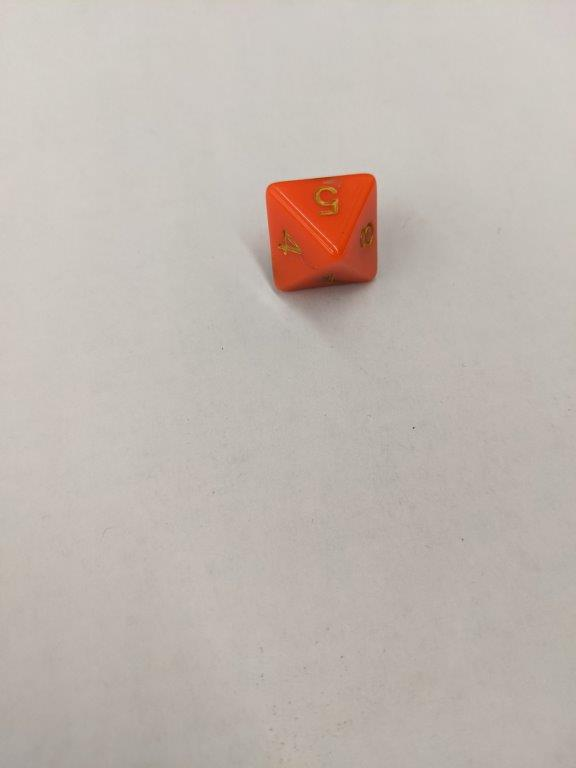d8-5: (265, 170, 380, 291)
